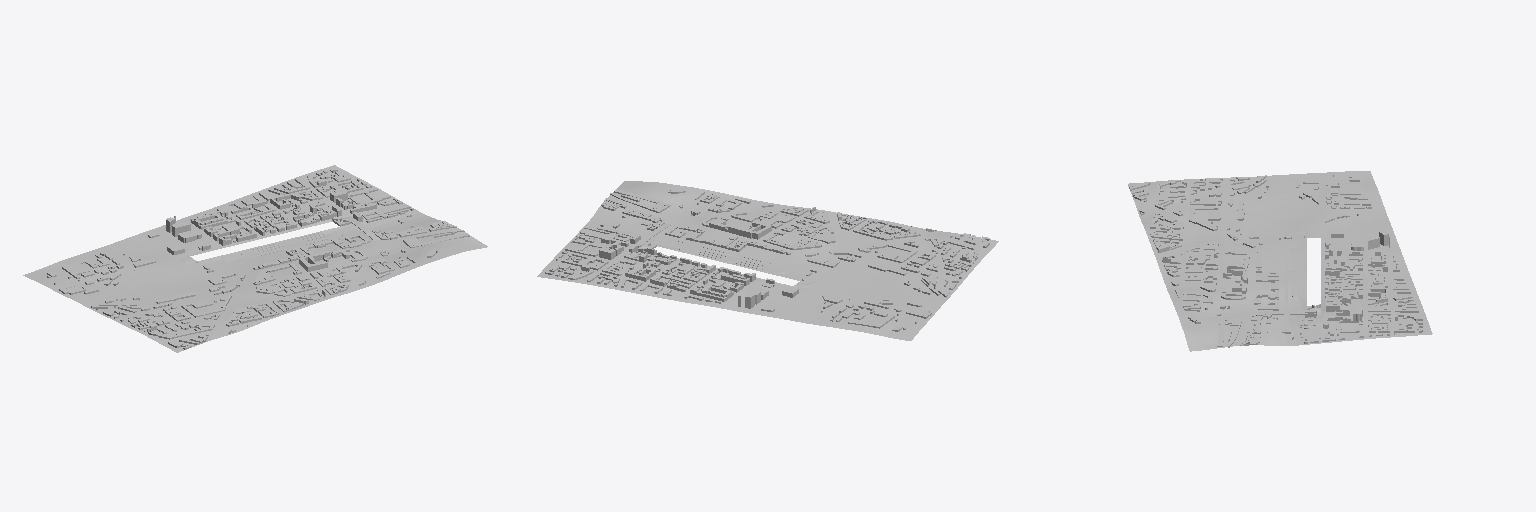
File: Area Stazione Environment.obj
3 views of the same model, side by side, from view 1: azimuth 30°, elevation 25°; view 2: azimuth 150°, elevation 25°; view 3: azimuth 270°, elevation 25° (orthographic).
Parts seen in each view (by area): view 1: object_2, object_1; view 2: object_2, object_1; view 3: object_2, object_1.
Part boxes in pixels (x1,y1,x2,y2): object_2: (23, 165, 487, 352); object_1: (47, 168, 469, 349); object_2: (537, 181, 998, 340); object_1: (545, 189, 989, 331); object_2: (1128, 171, 1432, 351); object_1: (1129, 173, 1422, 347).
Size of the model in its own units: 1430 by 47.67 by 1005.